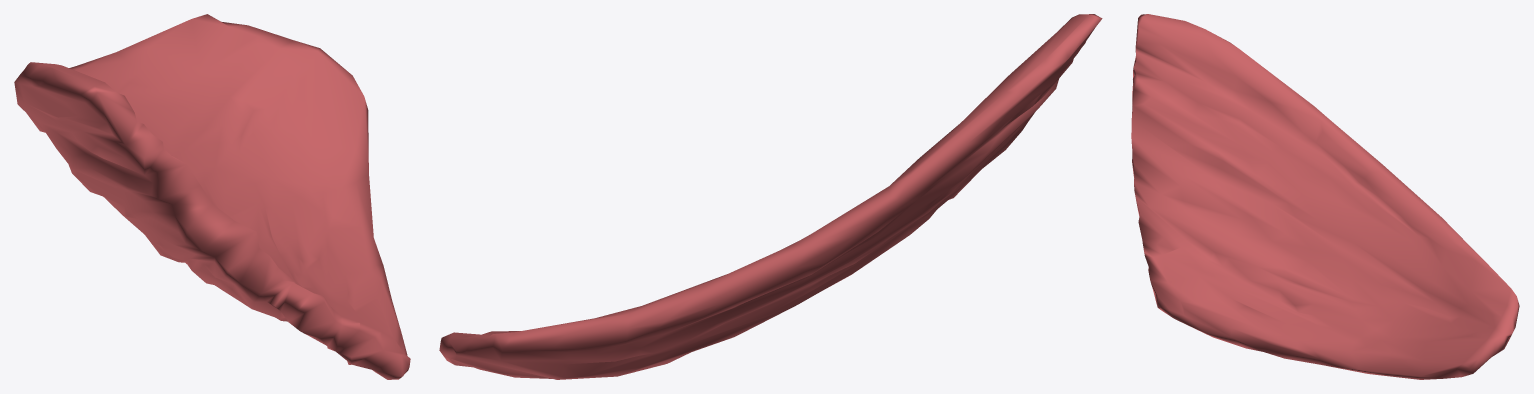
3 renders of one model, left to right at view 1: azimuth 30°, elevation 25°; view 2: azimuth 150°, elevation 25°; view 3: azimuth 270°, elevation 25°, orthographic. The views are drawn at different scales.
Parts seen in each view (by area): view 1: 右侧环甲肌直部; view 2: 右侧环甲肌直部; view 3: 右侧环甲肌直部.
Boxes of the visible parts, box(x1,y1,x2,y2) form: 右侧环甲肌直部: box(14, 14, 410, 379); 右侧环甲肌直部: box(439, 14, 1102, 379); 右侧环甲肌直部: box(1131, 14, 1519, 379).
Size of the model in its own units: 0.0143 by 0.0101 by 0.0152.
